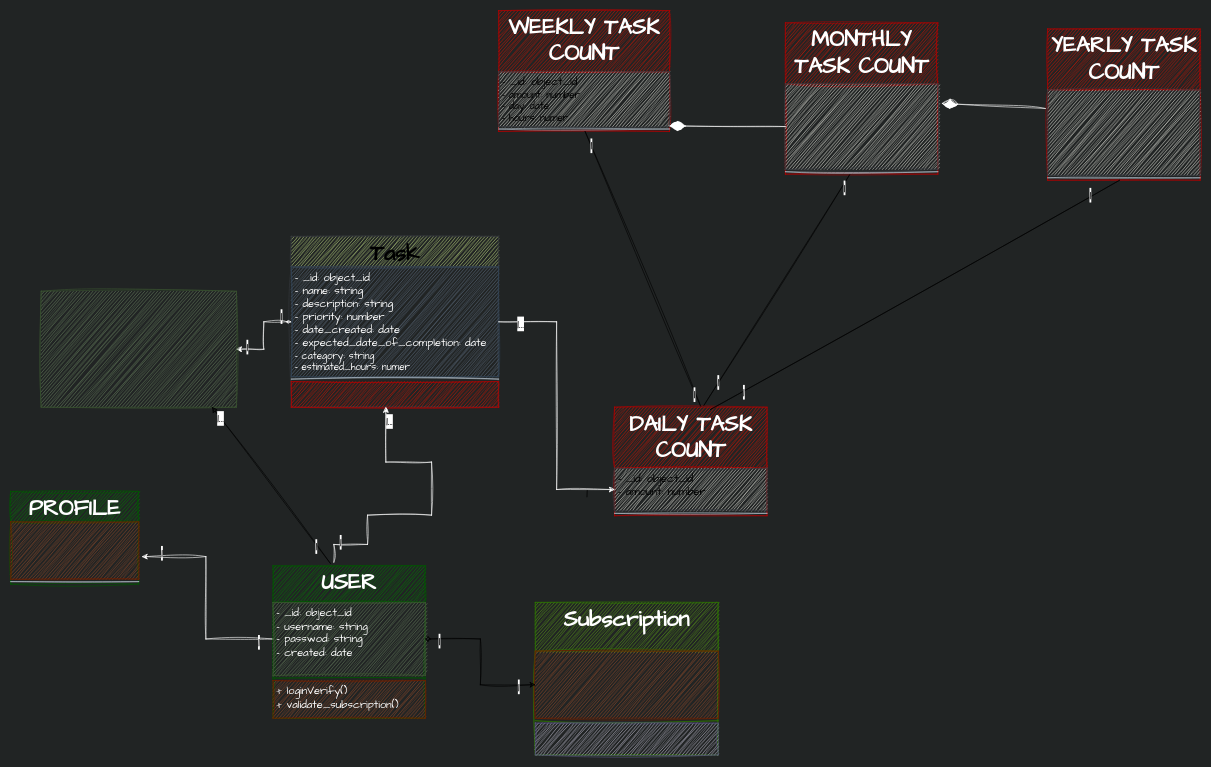
This 1211x767 diagram has some shape labels left out. Each missing label, with the centre of its shape:
"+ save()" belongs at point 395,394.
"+ validate_subscription()" belongs at point 626,739.
"- _id: object_id - amount: number - month: string - hours: number" belongs at point 1123,132.
"- _id: object_id - amount: number - week: string - hours: number" belongs at point 861,126.
"- _id: oject_id - image: string - theme: boolean" belongs at point 74,550.
"- type: string - started: date - expected_end: date" belongs at point 626,684.
"CUSTOM CATEGORIES - name: string - icon: string" belongs at point 138,349.
